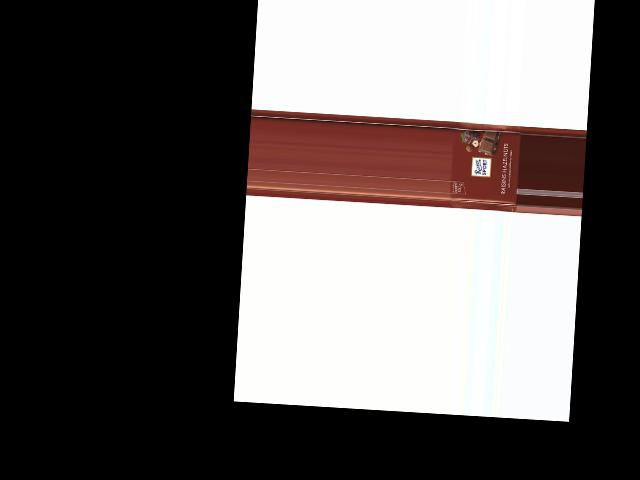chocolate: (449, 120, 522, 212)
